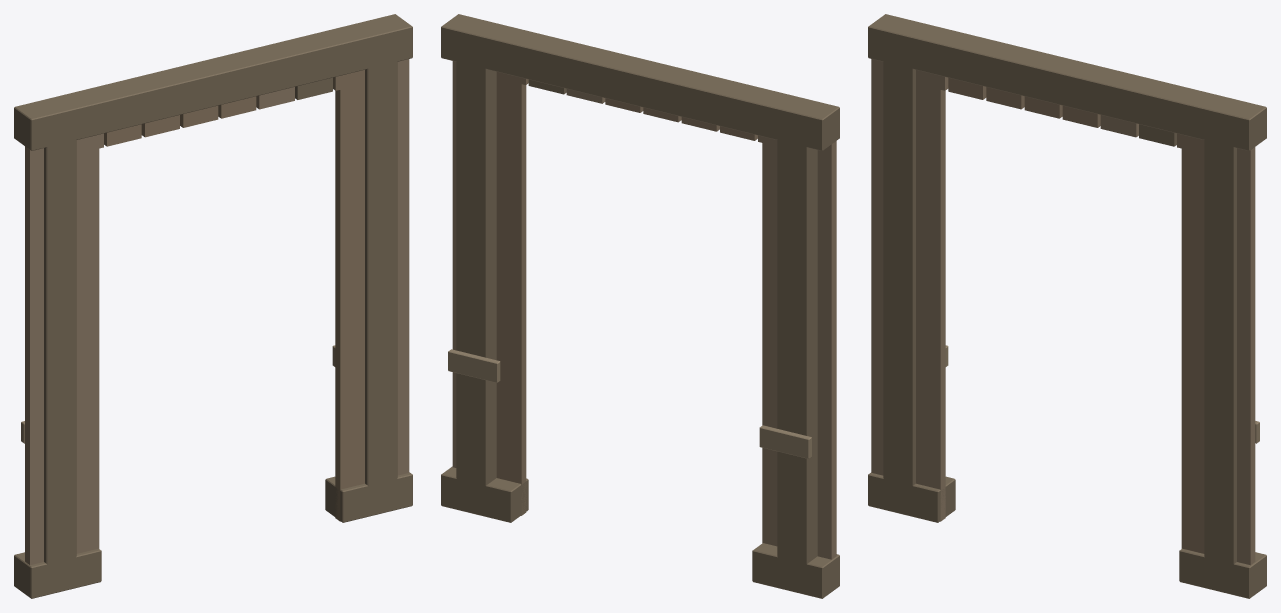
The model's file is env_wall_plank_doorway_a.glb.
3 views of the same model, side by side, from view 1: azimuth 30°, elevation 25°; view 2: azimuth 150°, elevation 25°; view 3: azimuth 330°, elevation 25° (orthographic).
Visible parts, largest first — view 1: root_material_2, root_material_1, root_material_0; view 2: root_material_2, root_material_1, root_material_0, root_material_3; view 3: root_material_2, root_material_1, root_material_0.
Boxes of the visible parts, <box> form: root_material_2: <box>14,14,412,598</box>; root_material_1: <box>25,59,409,565</box>; root_material_0: <box>104,70,364,521</box>; root_material_2: <box>441,14,839,598</box>; root_material_1: <box>452,61,836,559</box>; root_material_0: <box>496,72,757,515</box>; root_material_3: <box>448,349,811,458</box>; root_material_2: <box>868,14,1266,598</box>; root_material_1: <box>871,59,1255,565</box>; root_material_0: <box>948,77,1204,553</box>.
Size of the model in its own units: 2 by 2.4 by 0.19.
